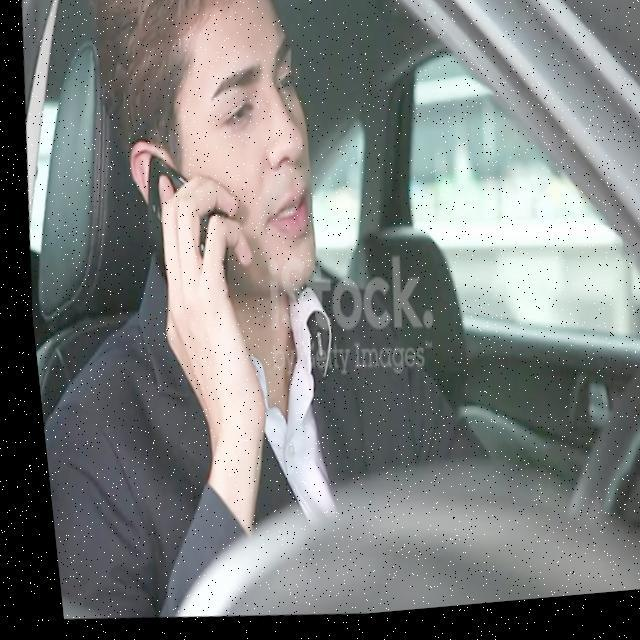PhoneCall: (135, 148, 230, 292)
